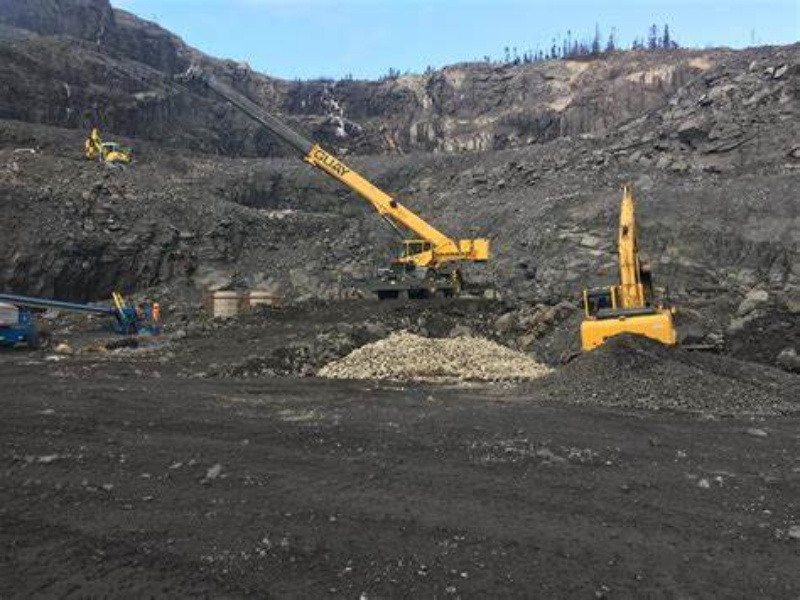crane: (178, 64, 494, 307)
excavator: (577, 185, 678, 358)
